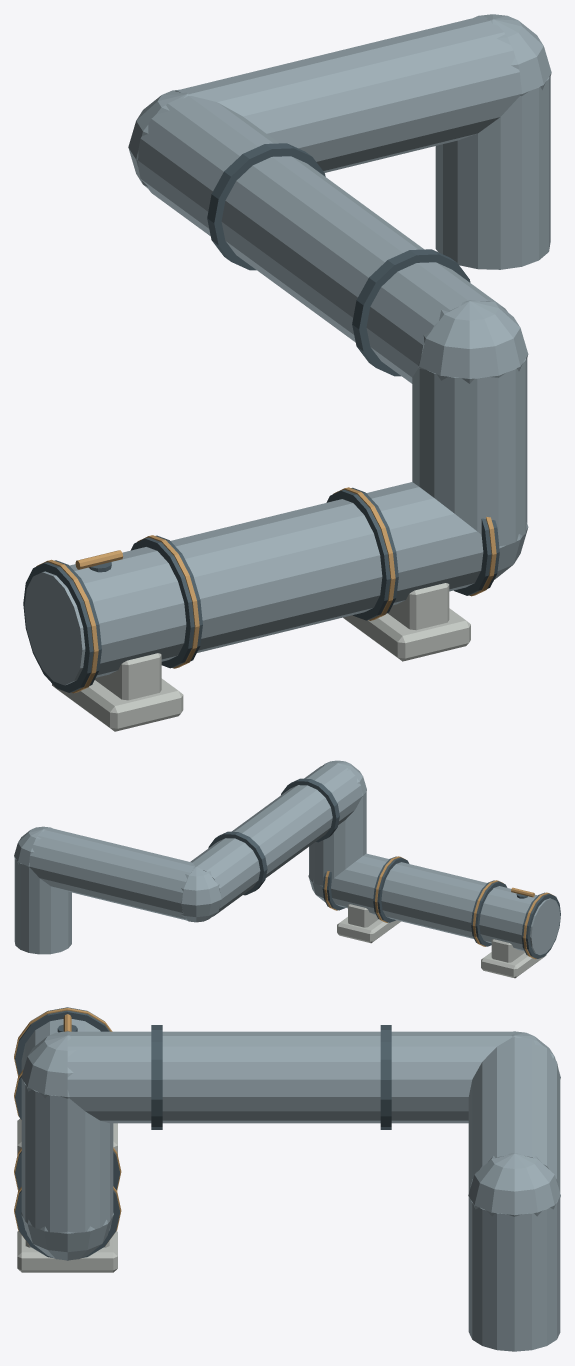
Rendered from cross-feed-v4.glb.
The picture shows the model from 3 angles, top to bottom: view 1: azimuth 30°, elevation 25°; view 2: azimuth 150°, elevation 25°; view 3: azimuth 270°, elevation 25°; orthographic projection. The views are drawn at different scales.
Parts seen in each view (by area): view 1: site-trim.001, site-dark.001, site-wall.001, site-orange.001; view 2: site-trim.001, site-dark.001, site-wall.001, site-orange.001; view 3: site-trim.001, site-dark.001, site-wall.001, site-orange.001.
Boxes of the visible parts, x1,y1,x2,y2 form: site-trim.001: (24, 14, 551, 685); site-dark.001: (23, 143, 499, 692); site-wall.001: (52, 583, 470, 731); site-orange.001: (36, 487, 496, 693); site-trim.001: (14, 760, 560, 955); site-dark.001: (208, 778, 560, 958); site-wall.001: (337, 904, 546, 978); site-orange.001: (324, 856, 553, 959); site-trim.001: (21, 1019, 560, 1351); site-dark.001: (15, 1007, 391, 1260); site-wall.001: (17, 1118, 117, 1272); site-orange.001: (14, 1008, 121, 1245).
Bounding box in the file's own units: 12.63 × 5.04 × 9.79.
